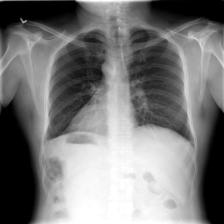normal: (41, 23, 199, 152)
